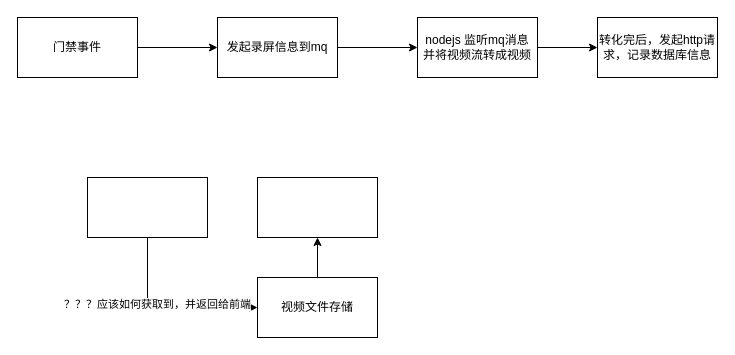
Image size: 735x355. Some labels were removed from this diagram. Here are the shapes that lost their labels. From the top down, the centre of each, then its label:
(147,207): java 项目容器
(317,207): nodejs项目容器
